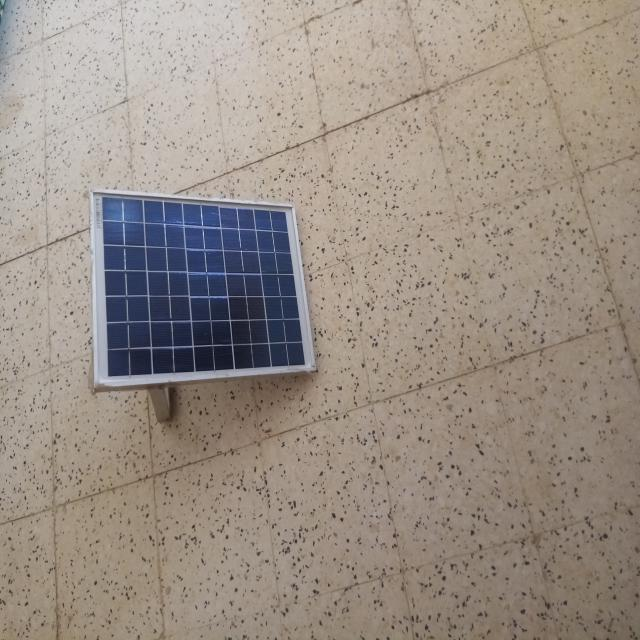no faulty: (89, 190, 315, 386)
